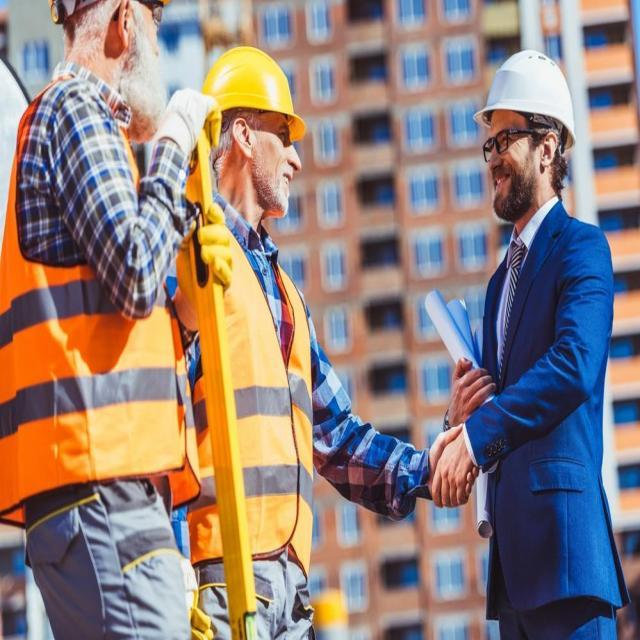NoVest: (448, 213, 618, 511)
